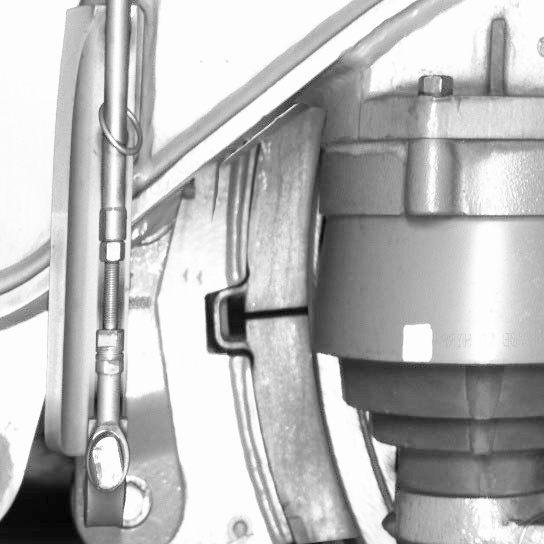ClosedKnifeSwitch: (226, 137, 408, 542)
